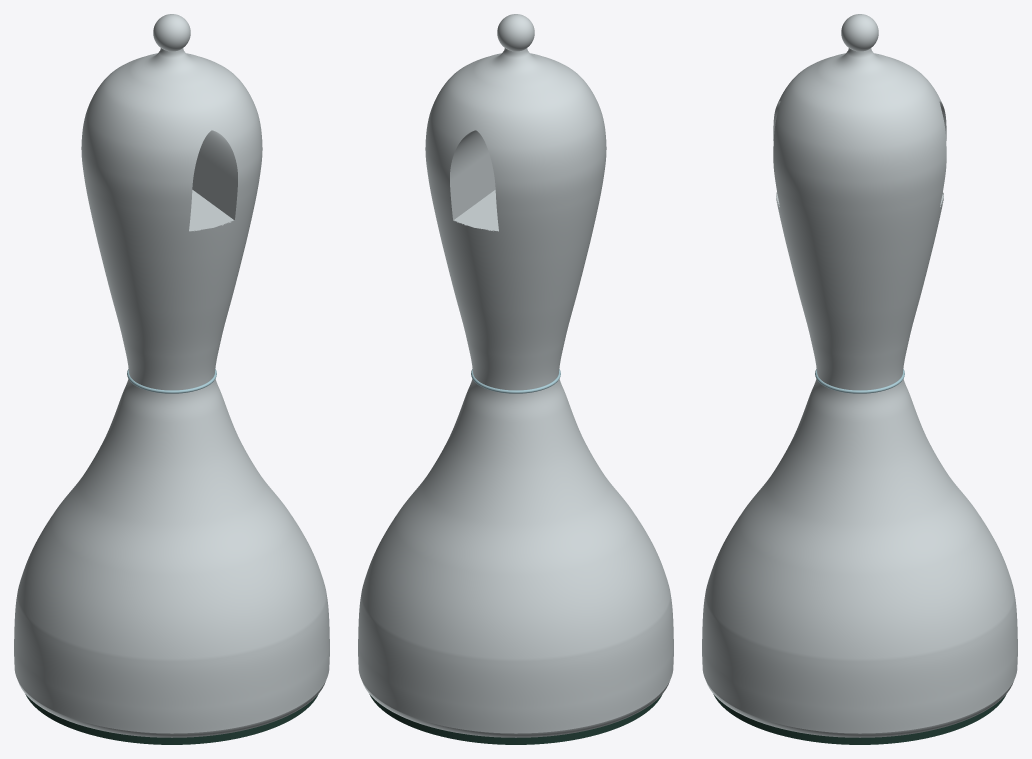
The model's file is Messenger.glb.
The picture shows the model from 3 angles, left to right: view 1: azimuth 30°, elevation 25°; view 2: azimuth 150°, elevation 25°; view 3: azimuth 270°, elevation 25°; orthographic projection.
Visible parts, largest first — view 1: body, arch_wall_2, felt_pad, base_bevel, finial, arch_wall_1; view 2: body, arch_wall_2, felt_pad, base_bevel, finial, arch_wall_1; view 3: body, felt_pad, base_bevel, finial.
Part boxes in pixels (x1,y1,x2,y2): body: [14, 48, 329, 733]; arch_wall_2: [192, 130, 237, 220]; felt_pad: [25, 694, 318, 744]; base_bevel: [18, 681, 325, 737]; finial: [153, 14, 190, 51]; arch_wall_1: [189, 190, 234, 231]; body: [358, 48, 673, 733]; arch_wall_2: [450, 130, 495, 220]; felt_pad: [369, 694, 662, 744]; base_bevel: [362, 681, 669, 737]; finial: [497, 14, 534, 51]; arch_wall_1: [453, 190, 498, 231]; body: [702, 48, 1017, 733]; felt_pad: [713, 694, 1006, 744]; base_bevel: [706, 681, 1013, 737]; finial: [841, 14, 878, 51].
Bounding box in the file's own units: 0.0462 × 0.1074 × 0.0462.
